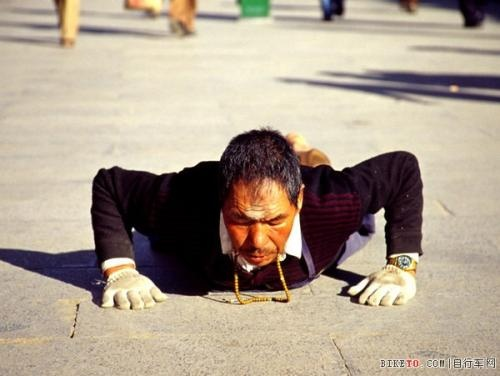falling: (83, 100, 423, 324)
